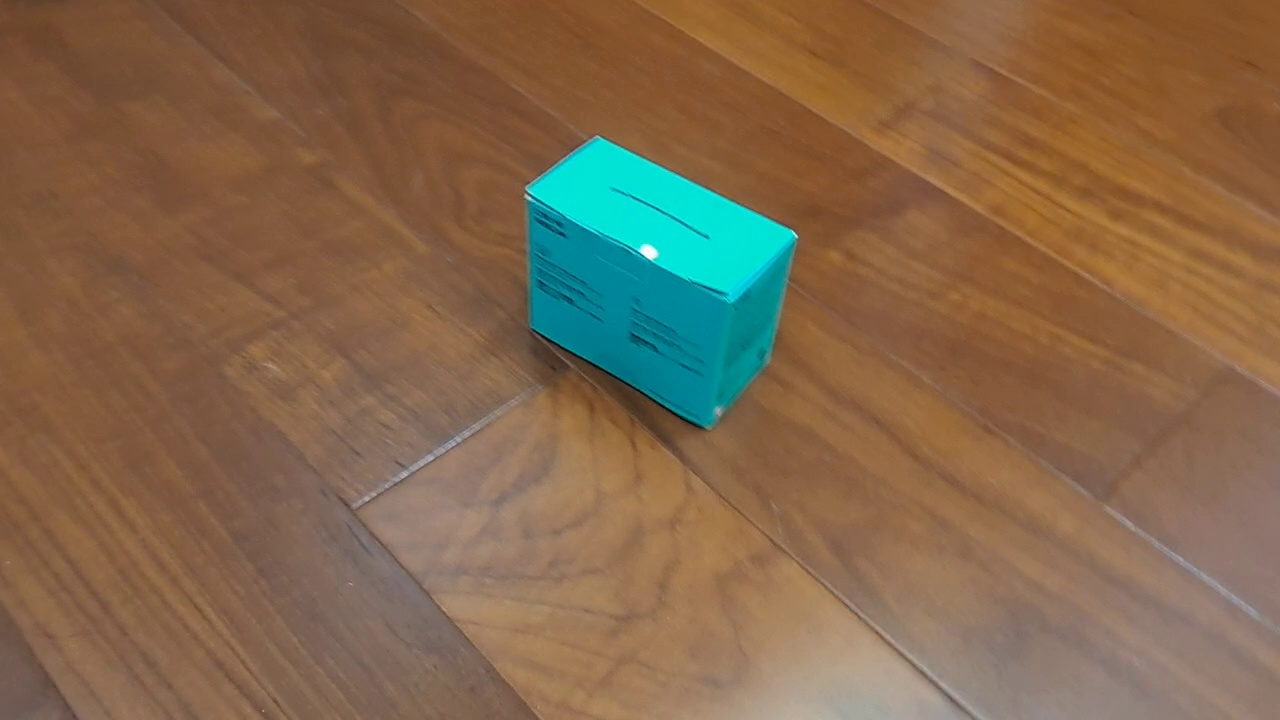webcam: (521, 133, 800, 432)
